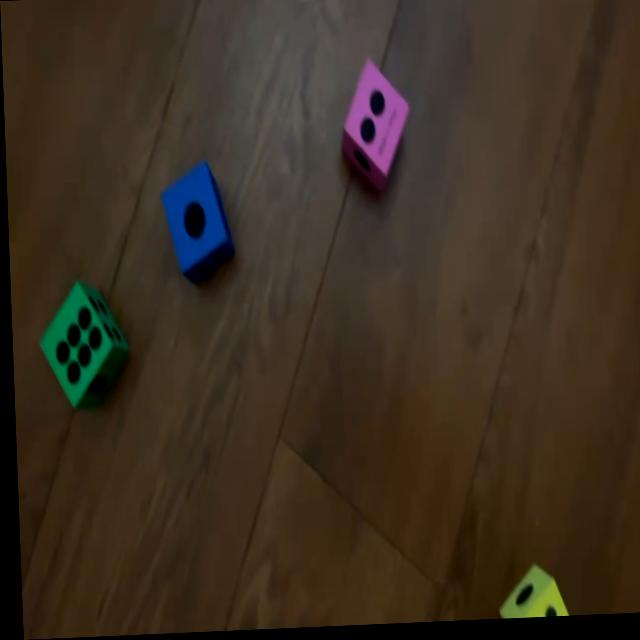blue_block: (158, 160, 234, 283)
